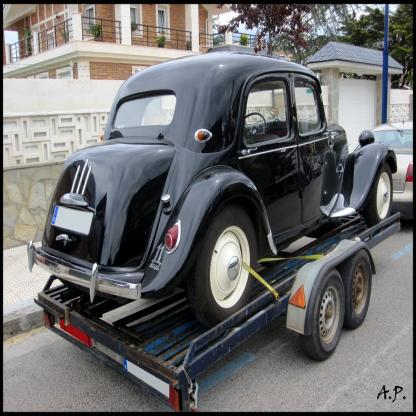Car: (28, 53, 398, 329)
